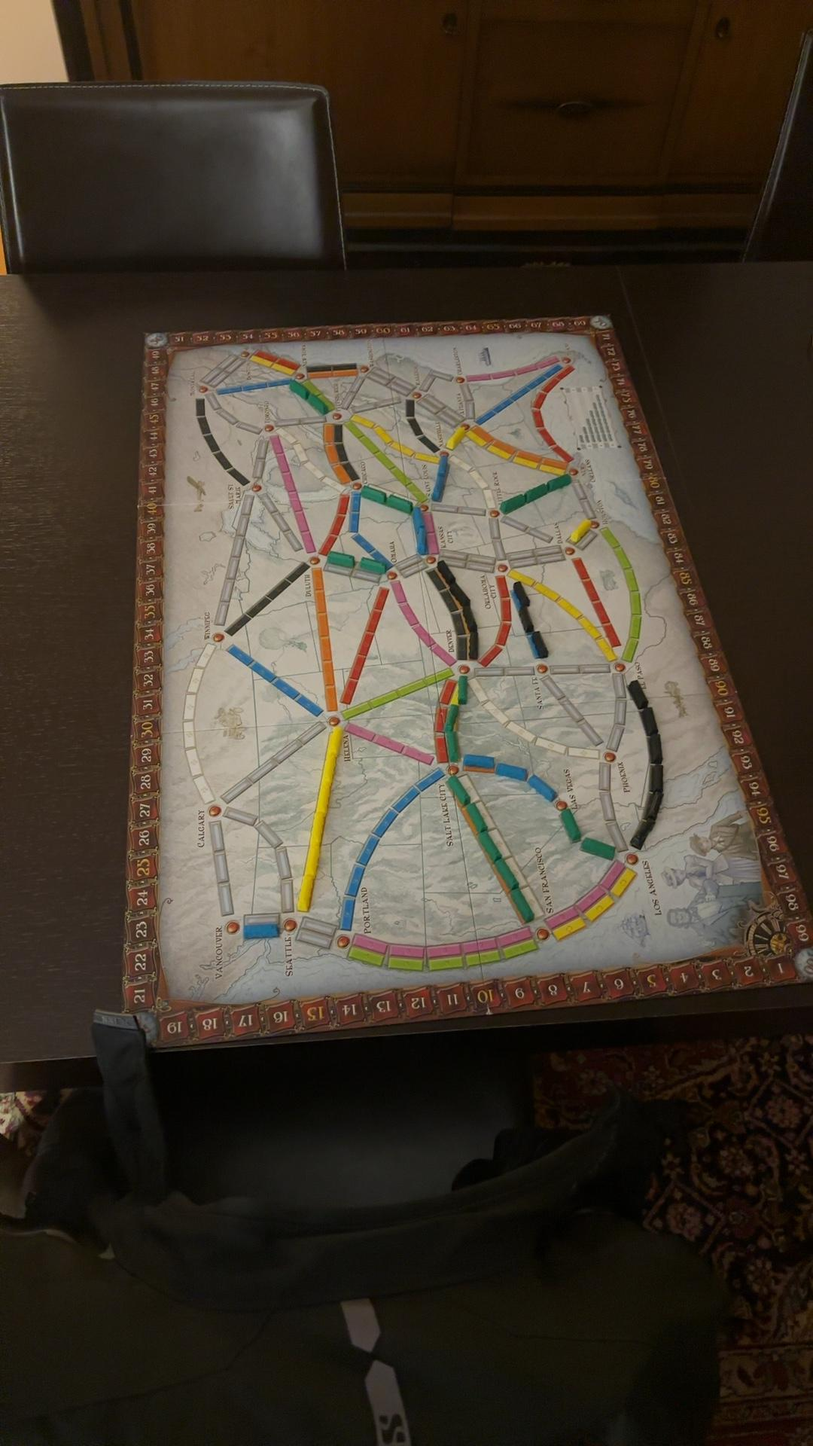black_train: (512, 583, 547, 658), (630, 820, 653, 849), (528, 630, 548, 658), (628, 681, 647, 709), (640, 705, 656, 735), (647, 732, 662, 764), (519, 605, 532, 633), (650, 764, 662, 791)
blue_train: (528, 774, 556, 801), (462, 753, 495, 770), (495, 764, 528, 780), (243, 926, 279, 939)
green_train: (510, 886, 533, 922), (493, 856, 517, 887), (560, 807, 581, 840), (581, 837, 614, 858), (478, 831, 501, 859), (449, 776, 469, 804), (356, 557, 385, 575), (327, 551, 355, 569), (470, 801, 486, 832), (361, 485, 386, 504), (445, 729, 459, 761), (445, 703, 458, 730), (458, 672, 467, 704)
yellow_train: (446, 424, 467, 450), (569, 519, 590, 542)
